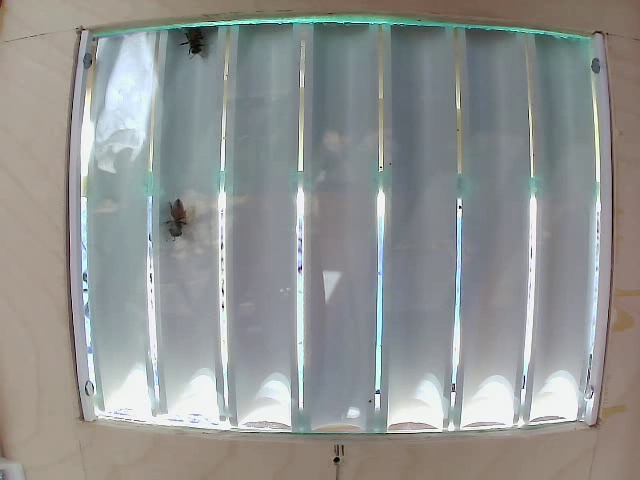bee: (158, 188, 198, 245), (183, 28, 217, 78)
